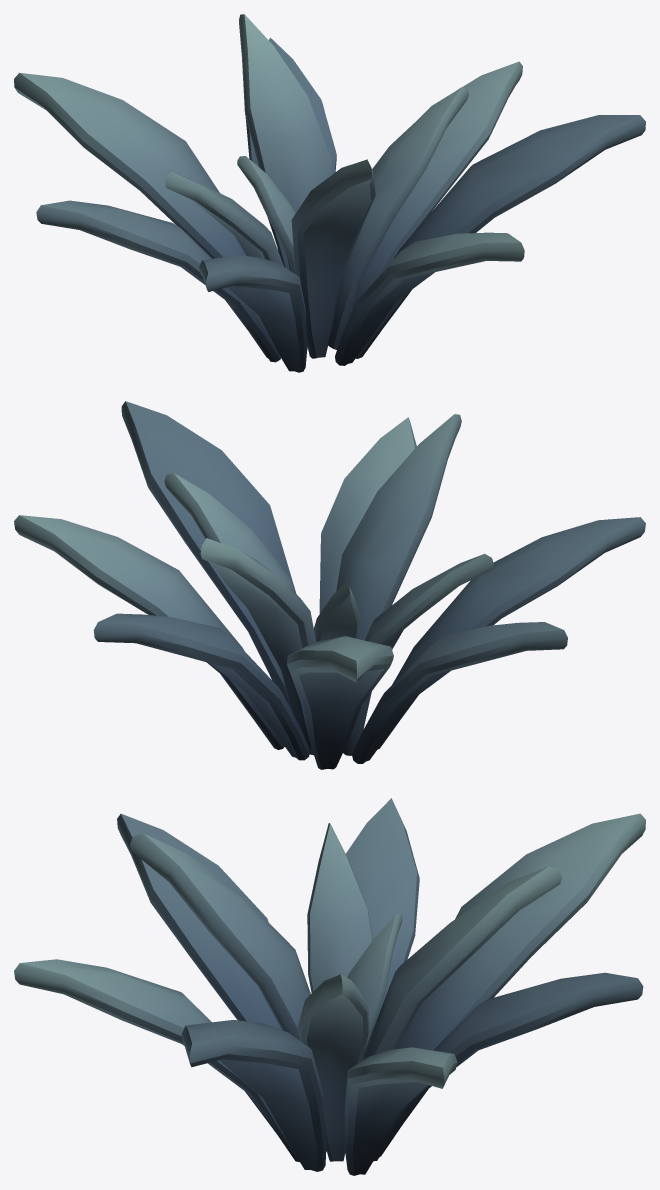
File: garden_plant_winter.glb
The picture shows the model from 3 angles, top to bottom: view 1: azimuth 30°, elevation 25°; view 2: azimuth 150°, elevation 25°; view 3: azimuth 270°, elevation 25°; orthographic projection. The views are drawn at different scales.
Visible parts, largest first — view 1: garden_plant_winter; view 2: garden_plant_winter; view 3: garden_plant_winter.
Boxes of the visible parts, bbox=[...] form: garden_plant_winter: bbox=[14, 14, 645, 372]; garden_plant_winter: bbox=[14, 401, 645, 769]; garden_plant_winter: bbox=[14, 798, 645, 1175].
Bounding box in the file's own units: 1.93 × 0.9477 × 1.8.
1 material, 1 textured.
